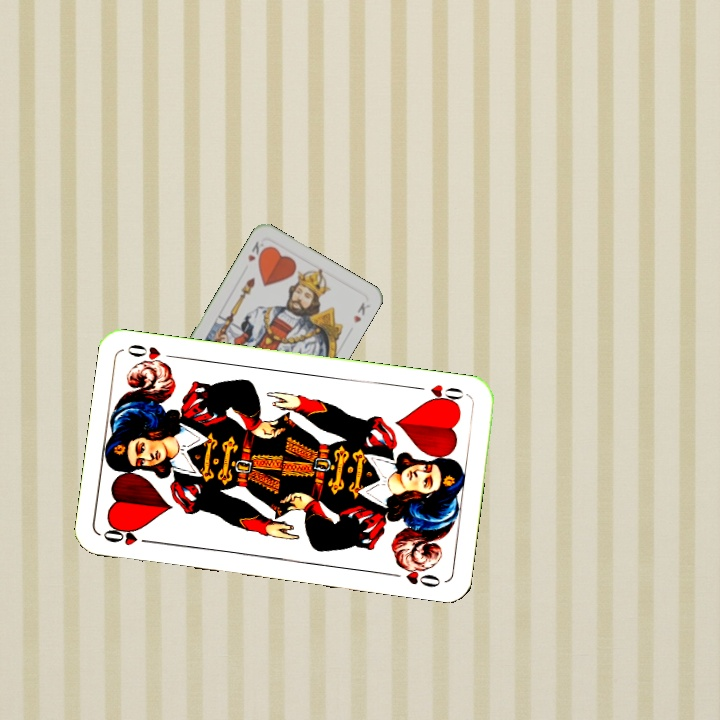HK: (243, 237, 269, 266)
HO: (411, 380, 466, 408), (99, 522, 158, 548)
